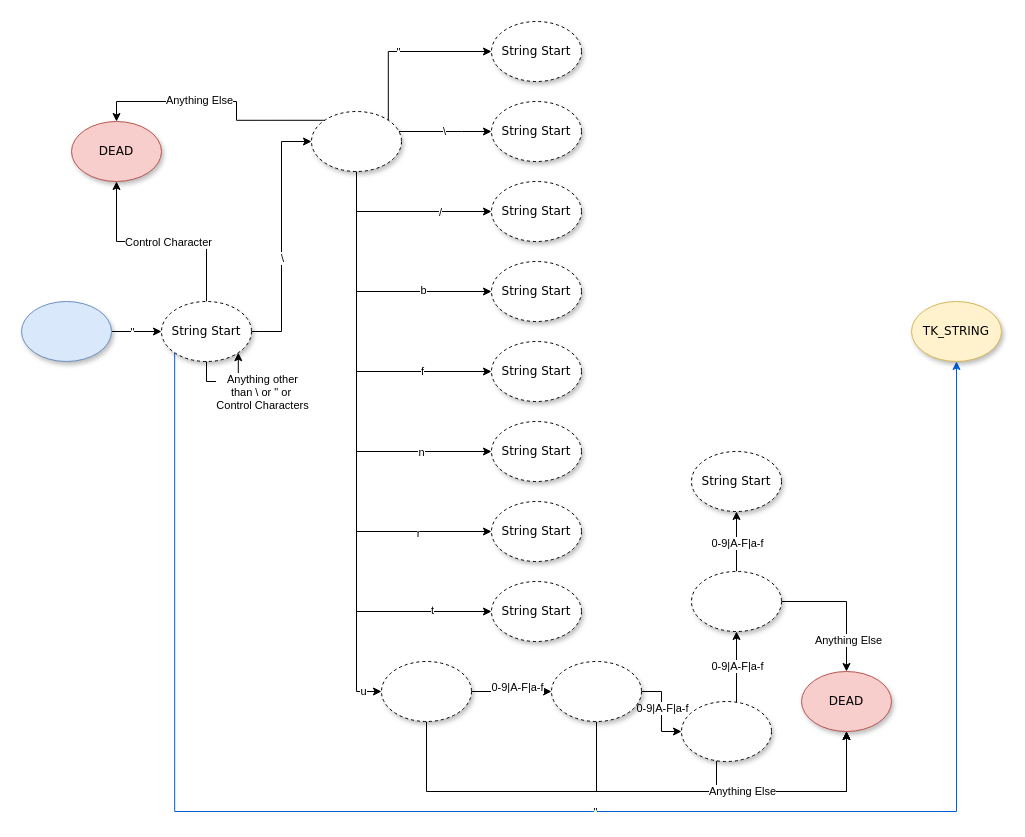
Some shapes in this 1025 by 837 pixel diagram are drawn without their labels. The shapes that lost their labels are listed below. From the top down, each one's centre as x and y in pixels, then its label:
(x=357, y=142): Escape Character
(x=67, y=332): START
(x=737, y=602): HexThree
(x=427, y=692): Escape Unicode
(x=597, y=692): HexOne
(x=727, y=732): HexTwo
